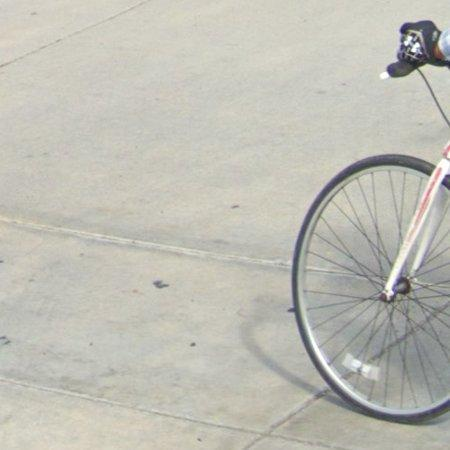bicycles: (293, 144, 450, 423)
